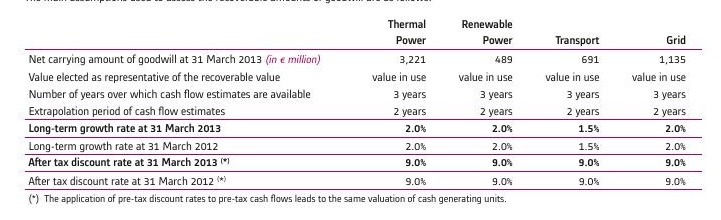table: (0, 0, 721, 220)
